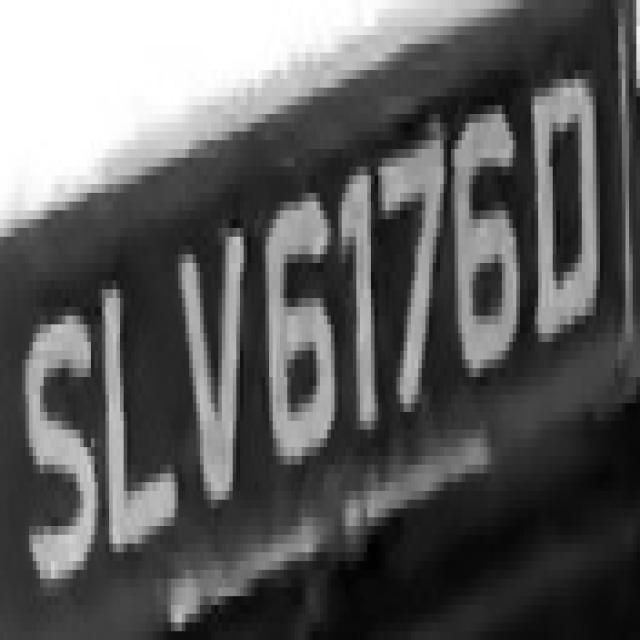1: (338, 132, 386, 474)
6: (258, 158, 331, 500), (451, 88, 520, 403)
7: (382, 96, 451, 438)
D: (531, 62, 600, 368)
L: (94, 237, 182, 561)
S: (22, 254, 98, 631)
V: (174, 193, 251, 526)
